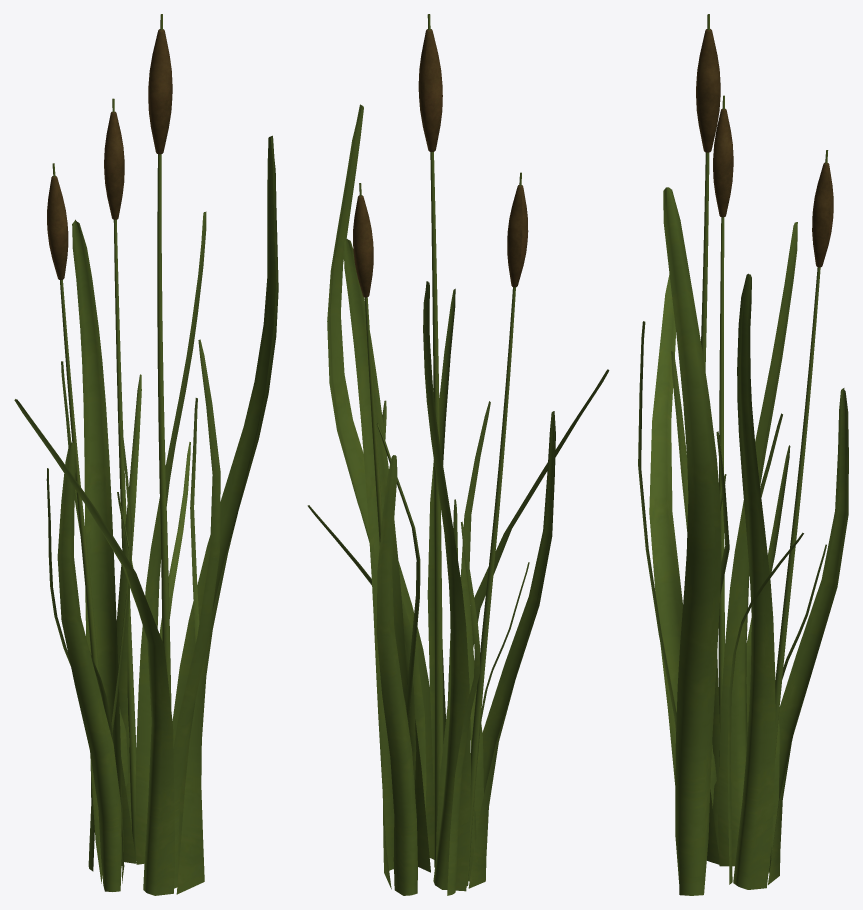
File: plant_3.gltf
3 views of the same model, side by side, from view 1: azimuth 30°, elevation 25°; view 2: azimuth 150°, elevation 25°; view 3: azimuth 270°, elevation 25° (orthographic).
Visible parts, largest first — view 1: plant_3; view 2: plant_3; view 3: plant_3.
Boxes of the visible parts, <box> form: plant_3: <box>14,14,278,895</box>; plant_3: <box>307,14,609,895</box>; plant_3: <box>638,14,848,895</box>.
Size of the model in its own units: 5.59 by 17.16 by 3.76.
Materials: 2 (2 with a texture image).
